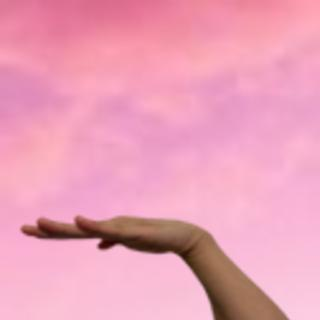WAIT: (16, 201, 198, 259)
